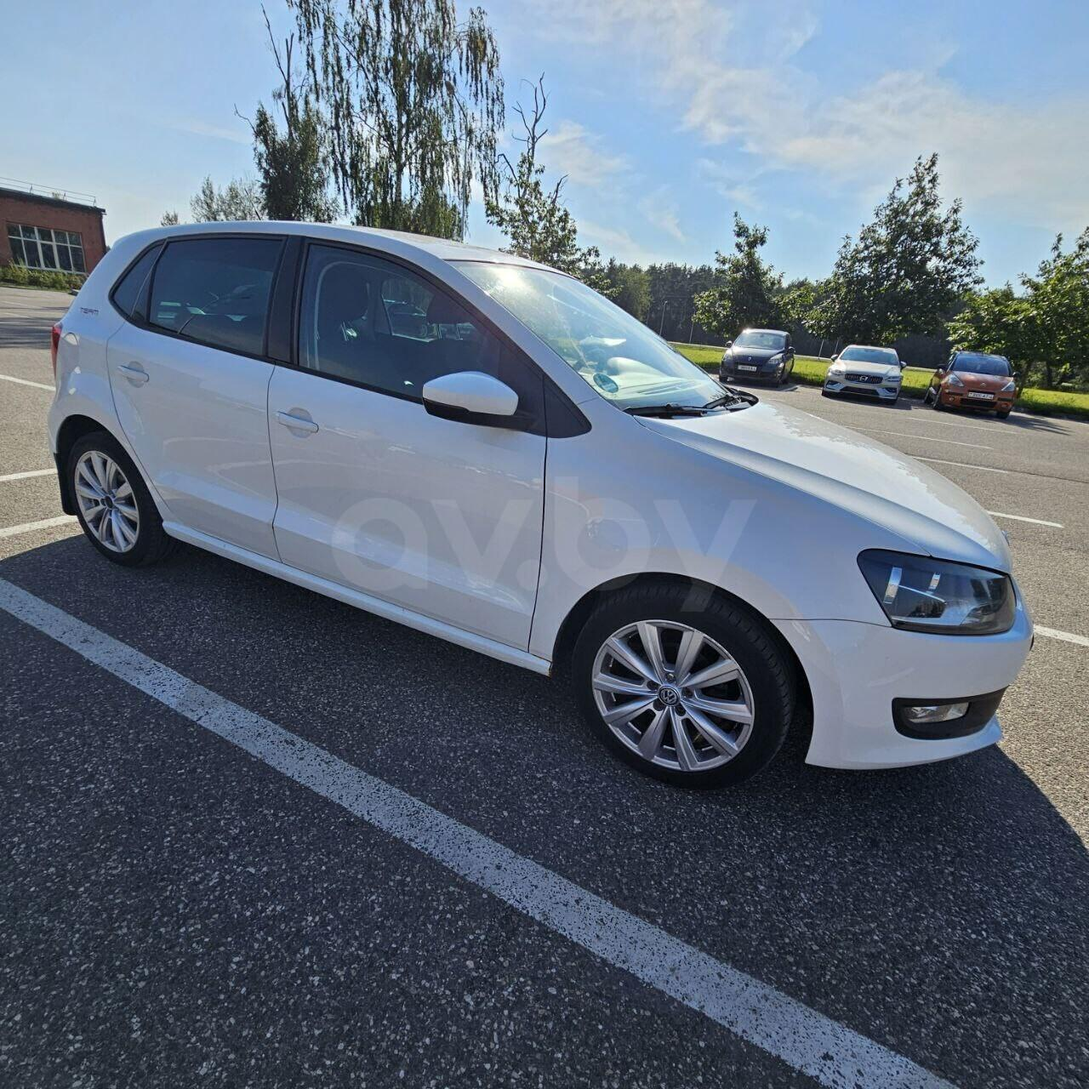Polo_2009-2015: (55, 216, 1052, 797)
